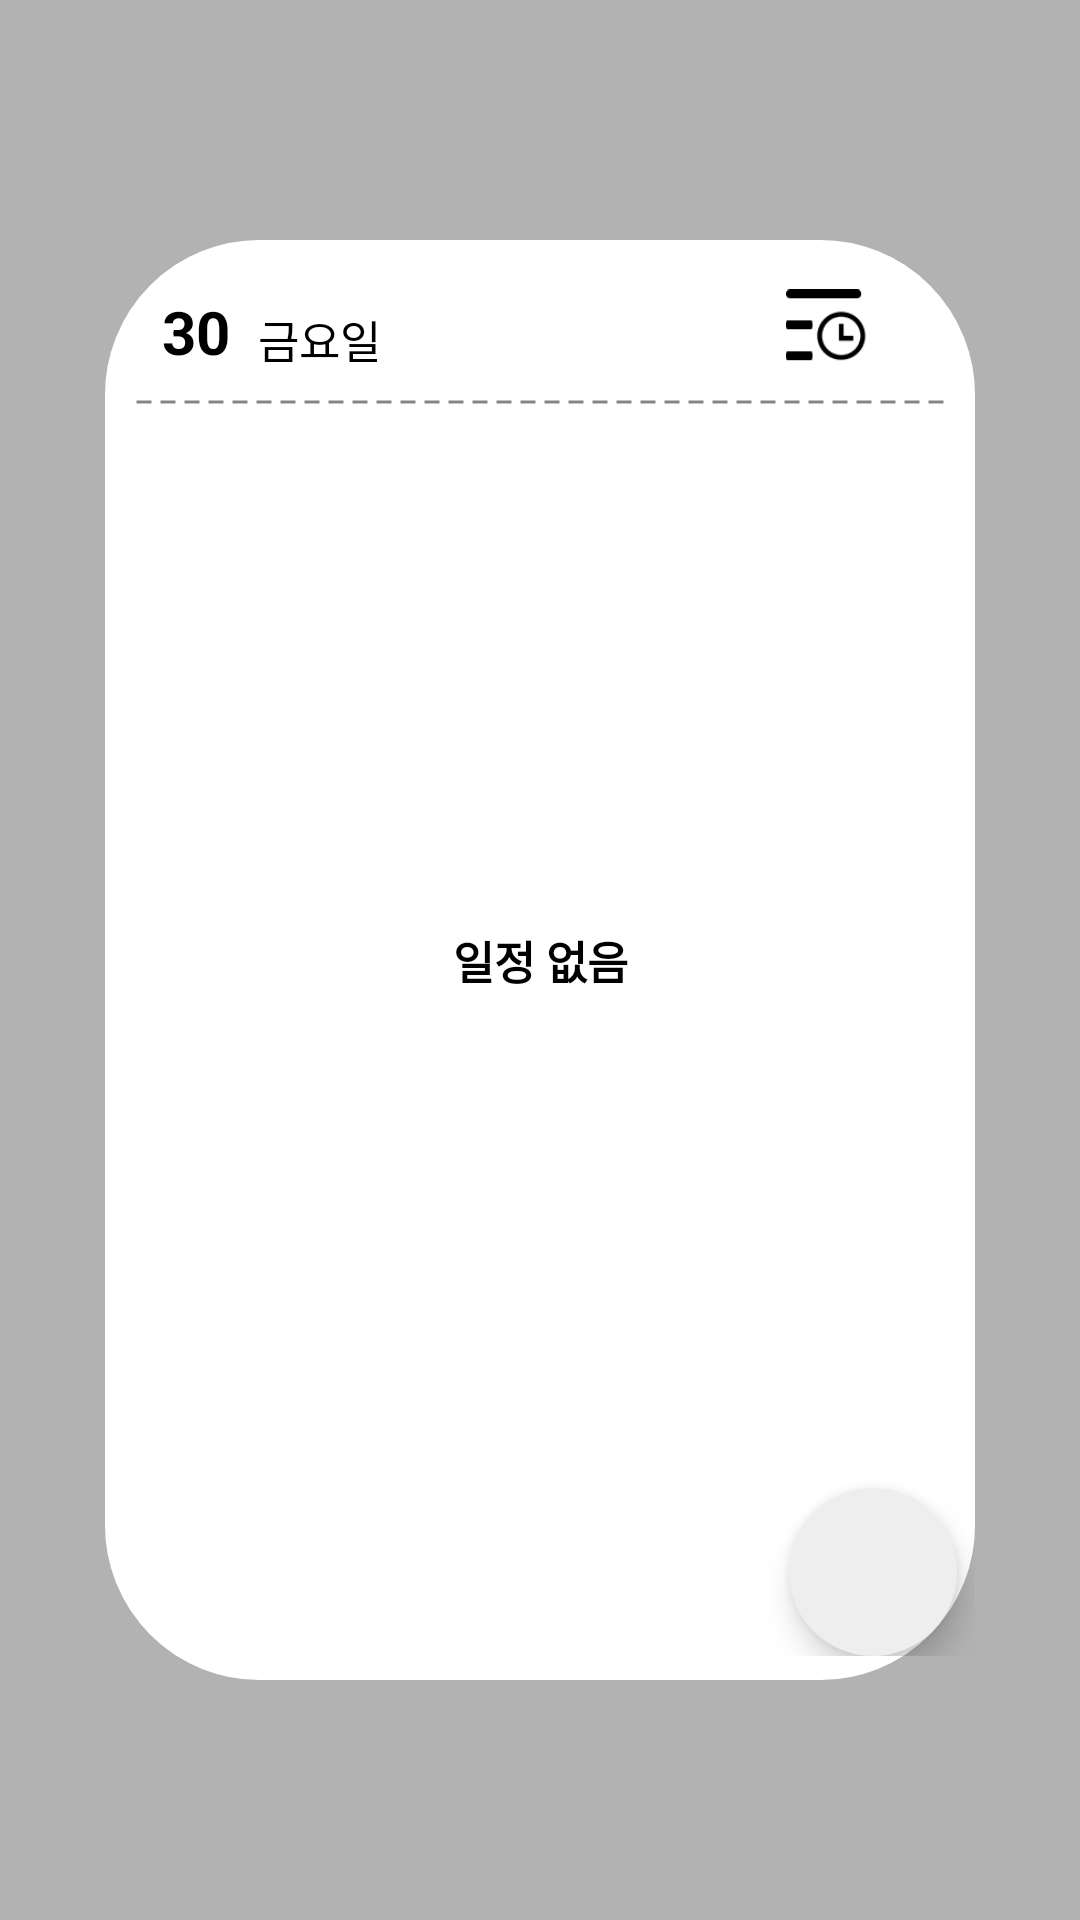

Named icons in this screenshot (1080px x 1920px) and their bounding boxes, [x1=x1, y1=y1, x2=x2, y2=y2]:
go timetable: [x1=760, y1=289, x2=896, y2=404]
